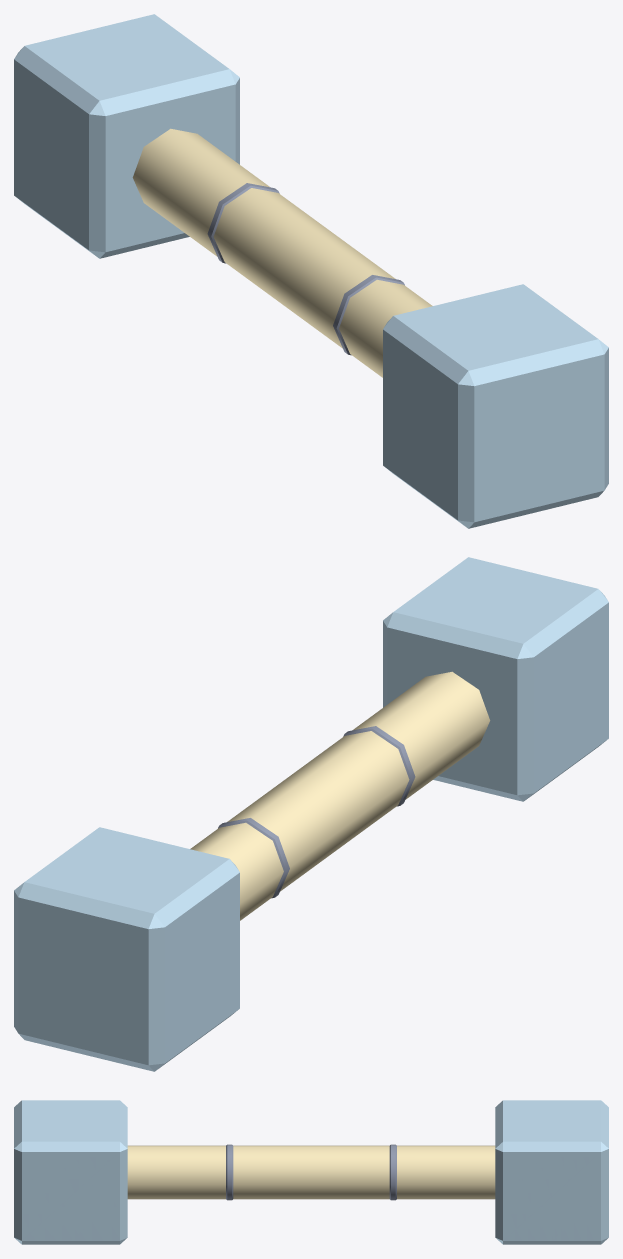
File: R4C_STRUT_LONG_LOD1.glb
3 views of the same model, one above another, from view 1: azimuth 30°, elevation 25°; view 2: azimuth 150°, elevation 25°; view 3: azimuth 270°, elevation 25° (orthographic). The views are drawn at different scales.
Parts seen in each view (by area): view 1: R4C_STRUT_LONG_LOD1; view 2: R4C_STRUT_LONG_LOD1; view 3: R4C_STRUT_LONG_LOD1.
Part boxes in pixels (left/top/right/bottom): R4C_STRUT_LONG_LOD1: left=14, top=14, right=608, bottom=528; R4C_STRUT_LONG_LOD1: left=14, top=557, right=608, bottom=1071; R4C_STRUT_LONG_LOD1: left=14, top=1100, right=608, bottom=1244.
Bounding box in the file's own units: 0.52 × 0.52 × 2.72.
